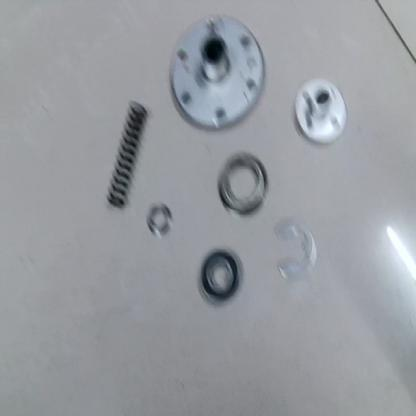FOD: (169, 15, 266, 133), (107, 97, 150, 217), (292, 75, 350, 147), (217, 152, 268, 222), (272, 218, 321, 282), (195, 249, 244, 309), (143, 200, 174, 238)
